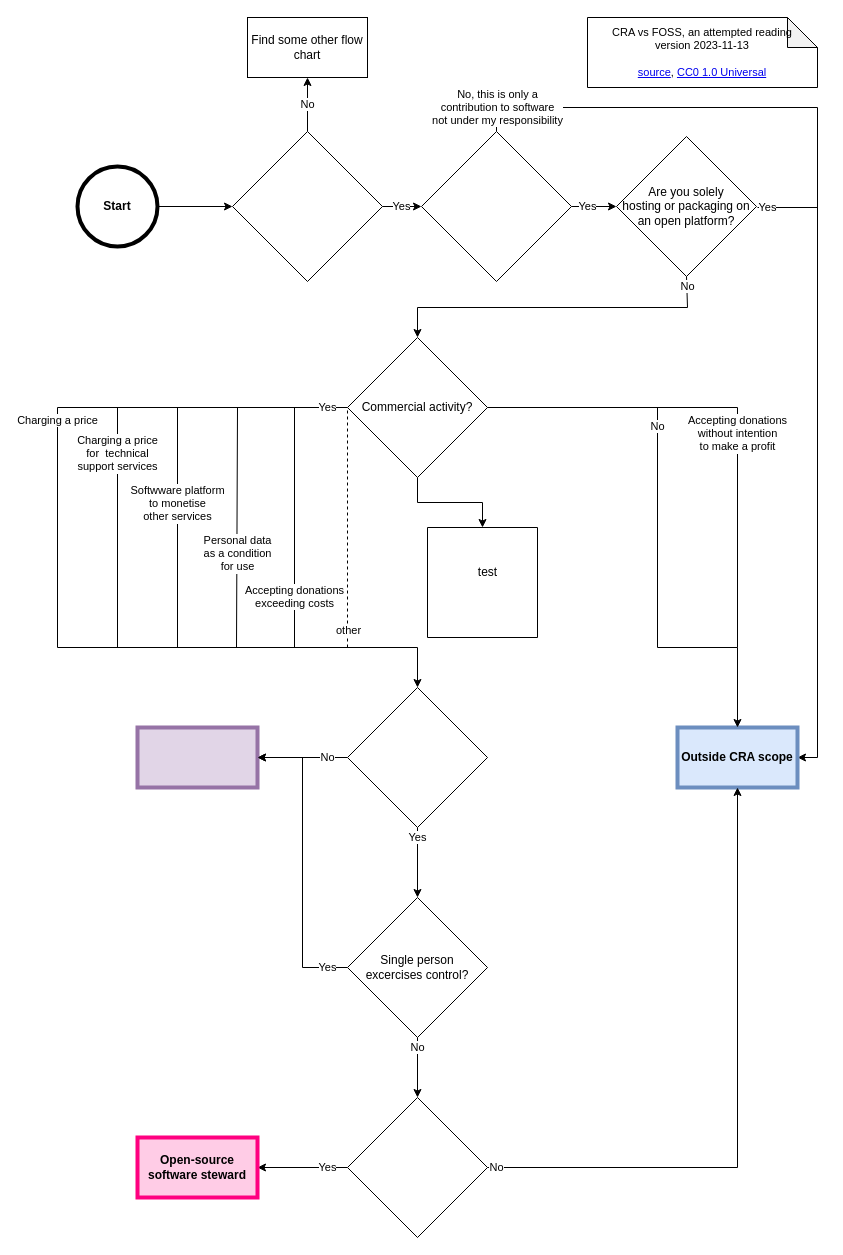
This 843x1255 diagram has some shape labels left out. The box of each missing label's shape, as (x1, y1, x2, y2) in pixels:
Are you making a product available on the market?: (420, 130, 572, 282)
Collaborative development?: (346, 686, 488, 828)
Does your activity concern free and open source software?: (232, 130, 382, 282)
Manufacturer: (135, 725, 259, 789)
Open-source software steward?: (346, 1096, 488, 1238)
